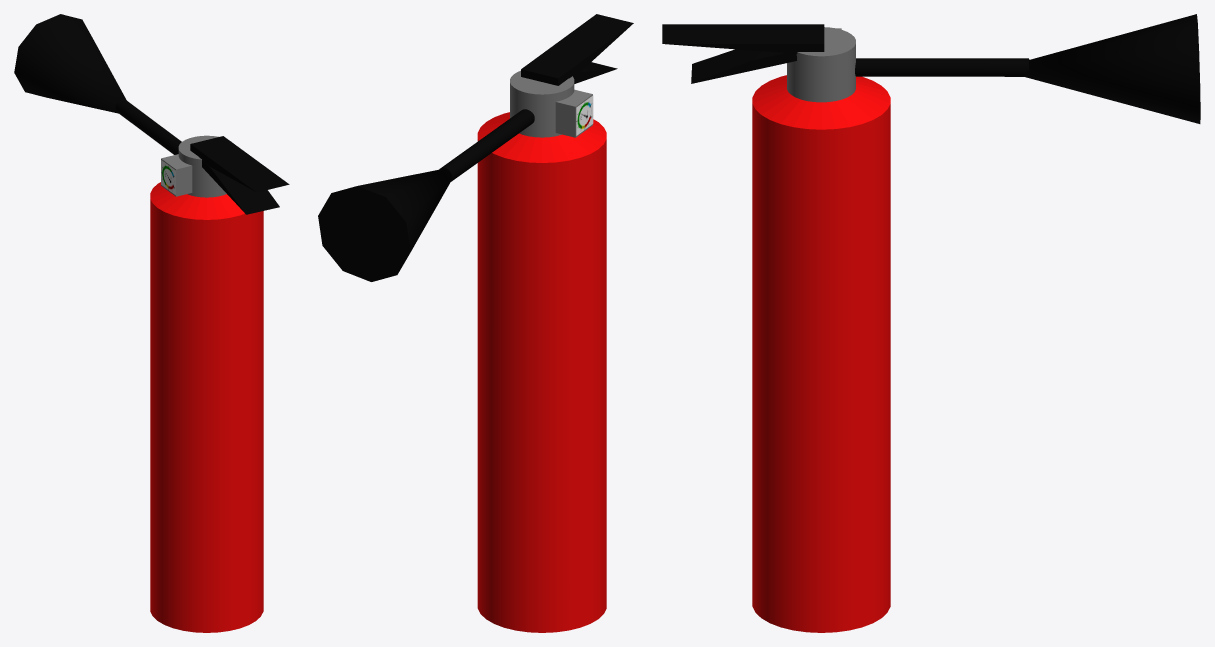
Rendered from fe_body.fbx.
3 renders of one model, left to right at view 1: azimuth 30°, elevation 25°; view 2: azimuth 150°, elevation 25°; view 3: azimuth 270°, elevation 25°, orthographic. The views are drawn at different scales.
Parts seen in each view (by area): view 1: fe_body, hose_end, top_handle, bottom_handle, top_connector, hose, gauge; view 2: fe_body, hose_end, top_handle, top_connector, hose, gauge, Quad, bottom_handle; view 3: fe_body, hose_end, top_handle, top_connector, hose, bottom_handle.
Part boxes in pixels (left/top/right/bottom): fe_body: left=150, top=182, right=263, bottom=632; hose_end: left=14, top=14, right=126, bottom=113; top_handle: left=190, top=136, right=289, bottom=192; bottom_handle: left=199, top=156, right=279, bottom=214; top_connector: left=178, top=135, right=231, bottom=197; hose: left=115, top=99, right=181, bottom=154; gauge: left=161, top=154, right=192, bottom=196; fe_body: left=477, top=112, right=606, bottom=632; hose_end: left=318, top=169, right=451, bottom=281; top_handle: left=521, top=14, right=633, bottom=85; top_connector: left=510, top=70, right=574, bottom=137; hose: left=439, top=109, right=534, bottom=181; gauge: left=555, top=89, right=592, bottom=137; Quad: left=576, top=95, right=593, bottom=135; bottom_handle: left=569, top=62, right=617, bottom=83; fe_body: left=752, top=75, right=890, bottom=632; hose_end: left=1024, top=14, right=1200, bottom=123; top_handle: left=662, top=24, right=824, bottom=53; top_connector: left=787, top=27, right=855, bottom=102; hose: left=855, top=58, right=1029, bottom=76; bottom_handle: left=691, top=49, right=796, bottom=83.
Size of the model in its own units: 15 by 69.72 by 58.17.
